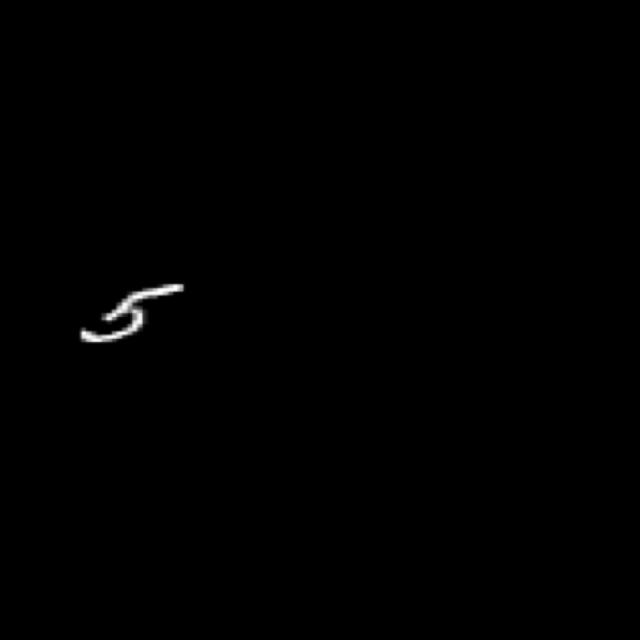five -5-: (67, 277, 191, 350)
